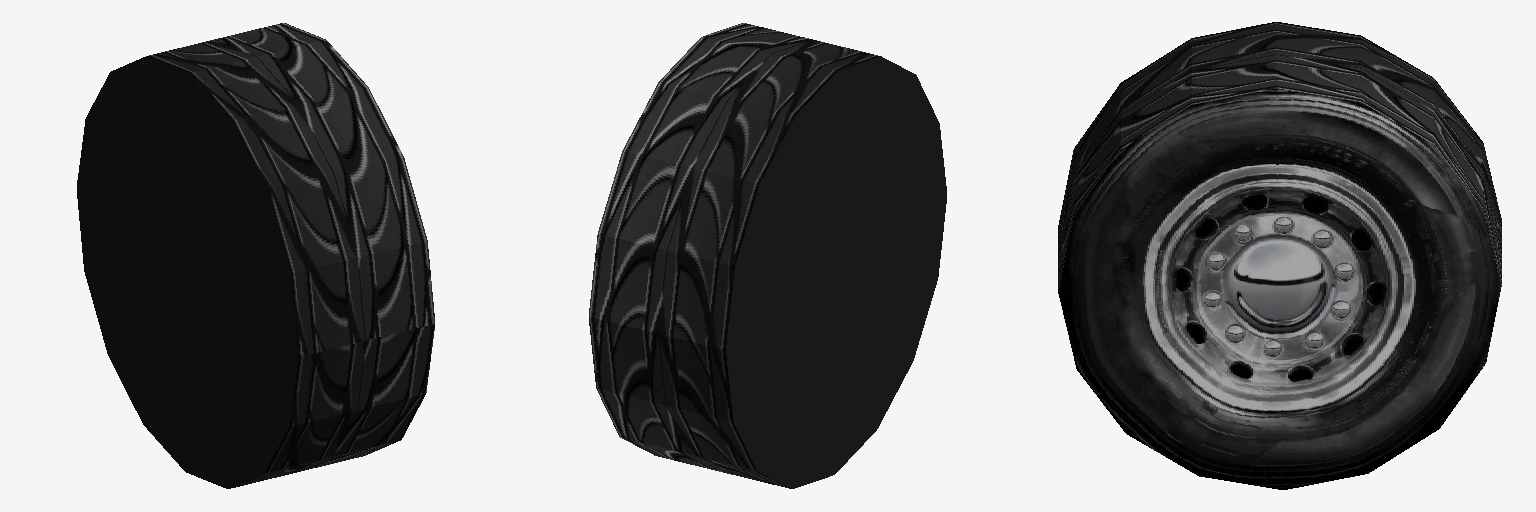
3 views of the same model, side by side, from view 1: azimuth 30°, elevation 25°; view 2: azimuth 150°, elevation 25°; view 3: azimuth 270°, elevation 25° (orthographic).
Visible parts, largest first — view 1: Carro_Llanta; view 2: Carro_Llanta; view 3: Carro_Llanta.
Part boxes in pixels (x1,y1,x2,y2): Carro_Llanta: (77,23,434,488); Carro_Llanta: (589,23,946,488); Carro_Llanta: (1058,22,1501,489).
Size of the model in its own units: 9.96 by 27.84 by 27.84.
Materials: 1 (1 with a texture image).